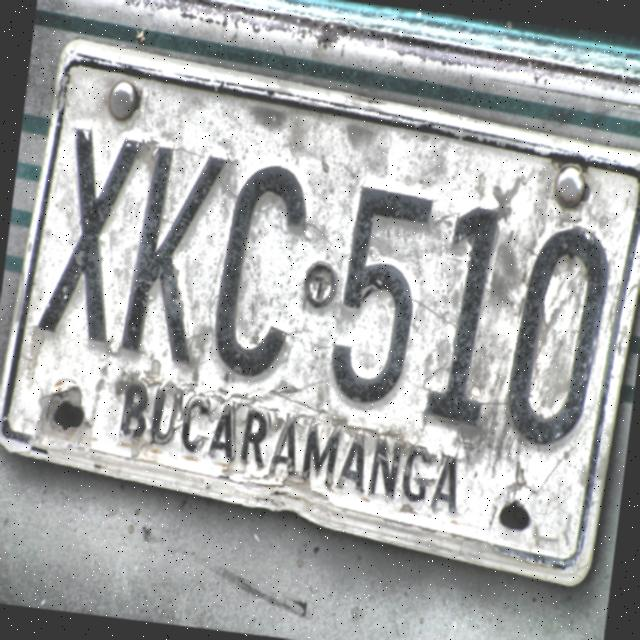plate: (0, 40, 640, 586)
